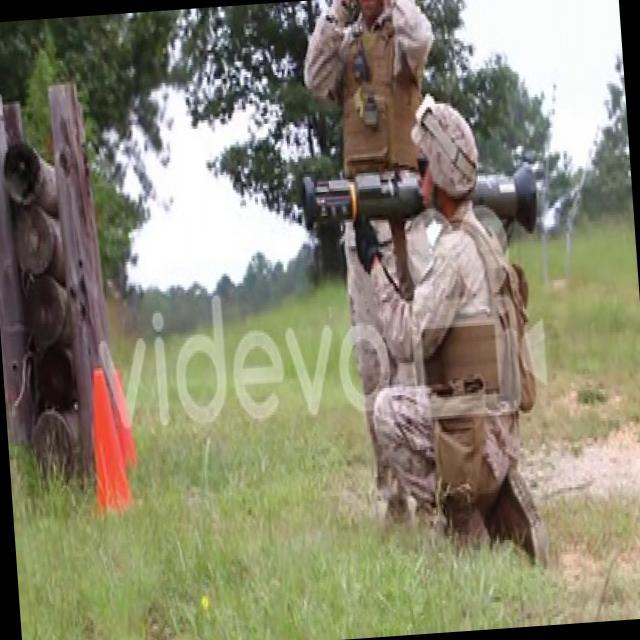rocket: (300, 153, 540, 244)
